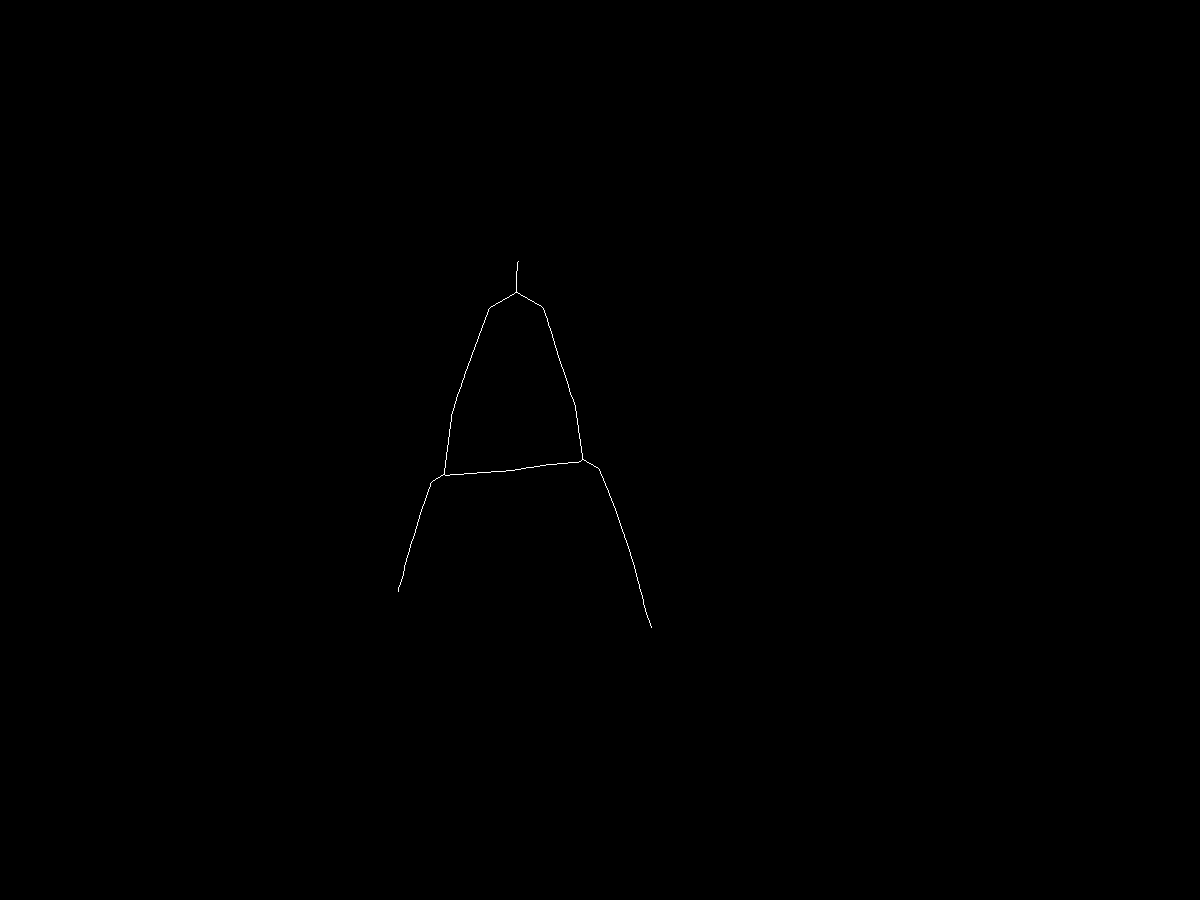dian1: (509, 287, 526, 304)
dian2: (431, 462, 461, 492)
dian3: (391, 581, 412, 602)
dian4: (574, 452, 591, 469)
dian5: (645, 622, 665, 642)
